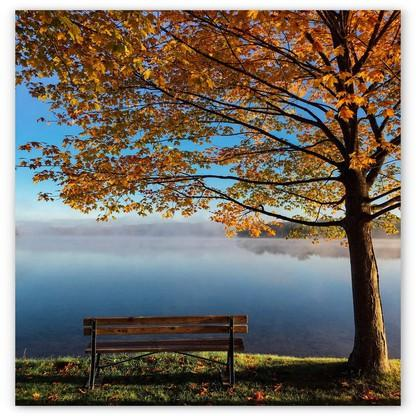obstacle: (69, 305, 259, 391)
